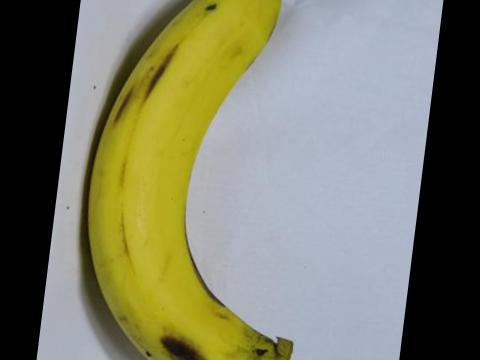freshripe: (69, 0, 310, 359)
